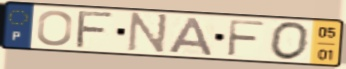A: (166, 15, 216, 57)
F: (73, 10, 117, 50), (225, 17, 267, 58)
N: (125, 11, 171, 56)
O: (268, 20, 312, 62), (35, 9, 75, 47)
